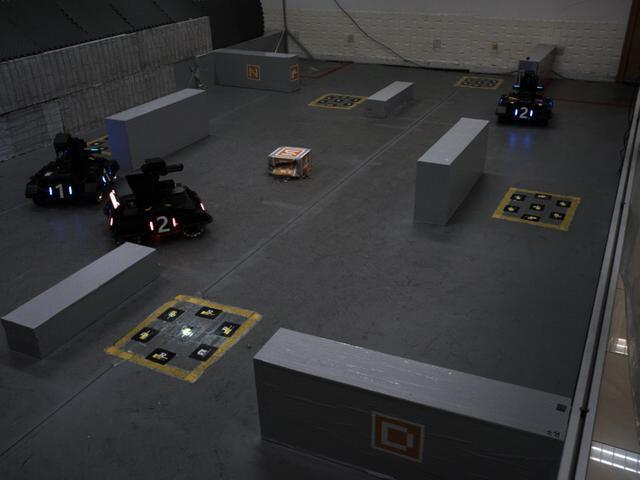armor: (142, 211, 180, 236), (45, 180, 76, 203), (509, 103, 538, 124)
